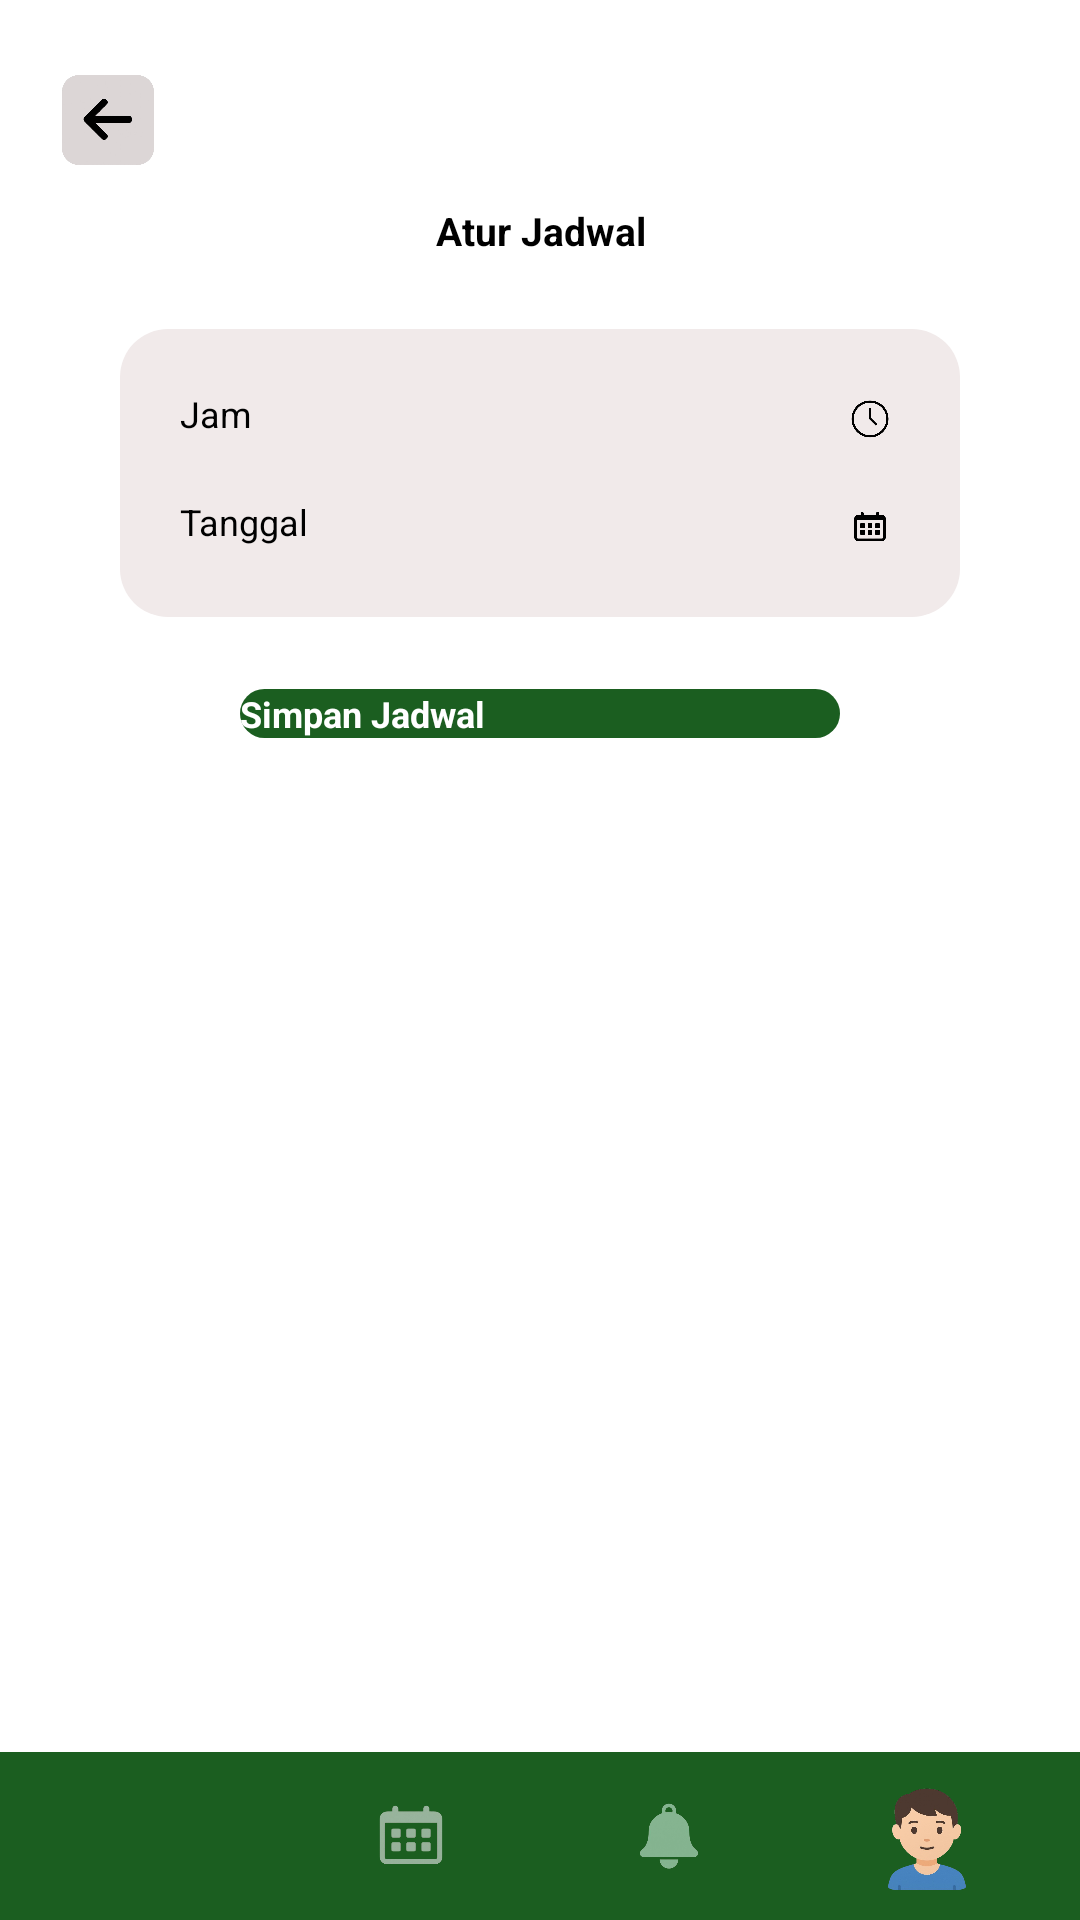

Screen size 1080px x 1920px. Icon name, then its box in pixels as (x1, y1, x2, y2):
calendar: (854, 512, 886, 541)
clock: (851, 400, 889, 437)
Nav Bell: (640, 1804, 698, 1869)
Nav Calendar: (380, 1806, 442, 1864)
Nav User: (888, 1789, 966, 1890)
